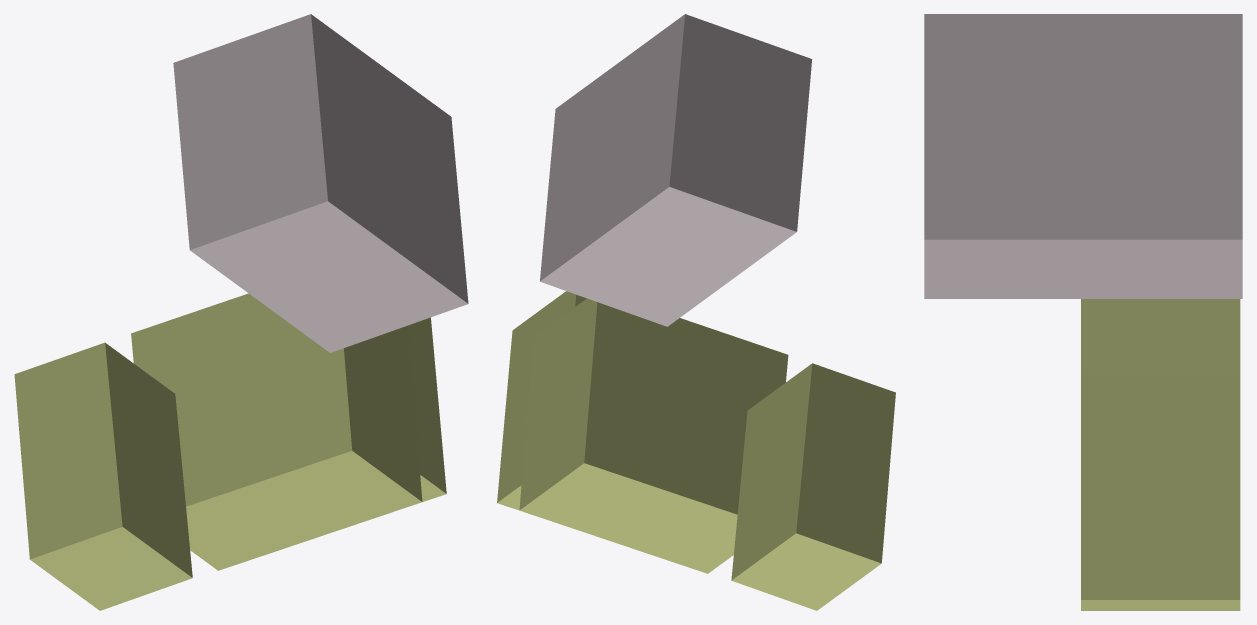
3 views of the same model, side by side, from view 1: azimuth 30°, elevation 25°; view 2: azimuth 150°, elevation 25°; view 3: azimuth 270°, elevation 25° (orthographic). The views are drawn at different scales.
Visible parts, largest first — view 1: 0_2_1_3_3_0_3_2_1_3; view 2: 0_2_1_3_3_0_3_2_1_3; view 3: 0_2_1_3_3_0_3_2_1_3.
Part boxes in pixels (box(x1,y1,x2,y2)): 0_2_1_3_3_0_3_2_1_3: box(14, 14, 468, 610); 0_2_1_3_3_0_3_2_1_3: box(497, 14, 895, 610); 0_2_1_3_3_0_3_2_1_3: box(924, 14, 1242, 610).
Size of the model in its own units: 17.86 by 22.43 by 12.
